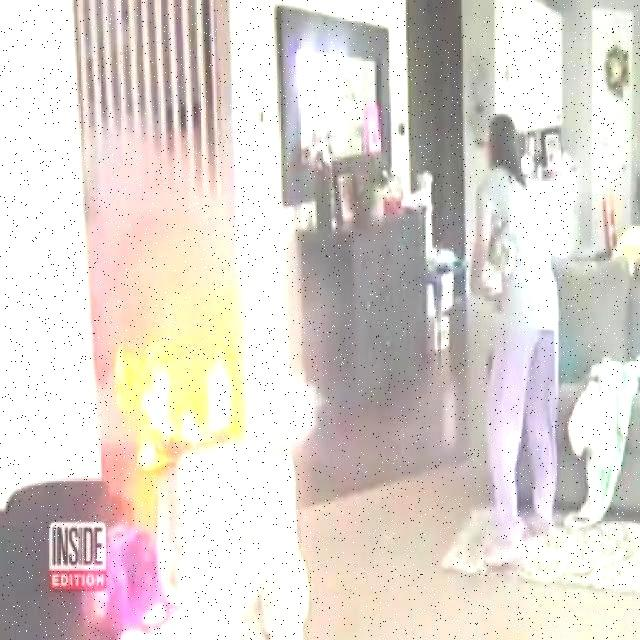fire: (125, 334, 251, 471)
smoke: (89, 174, 268, 318)
